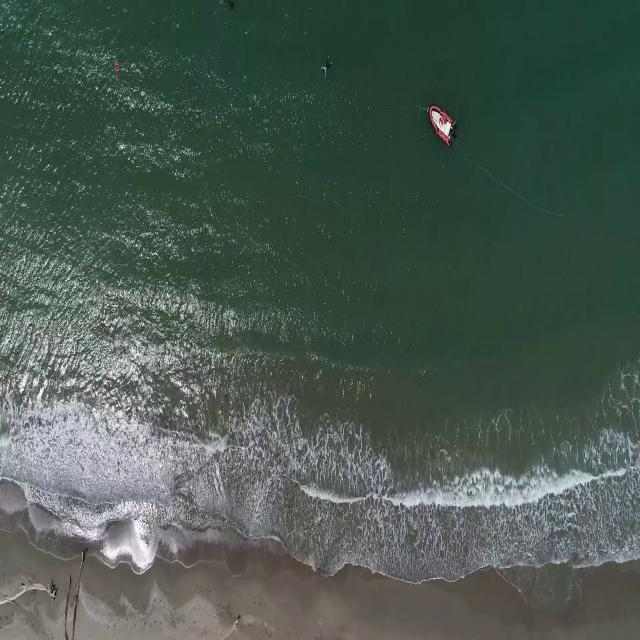boat: (429, 103, 456, 148)
life_buoy: (112, 61, 121, 73)
person: (320, 57, 334, 82)
wood: (65, 549, 86, 639), (176, 614, 243, 640), (0, 582, 62, 606)
